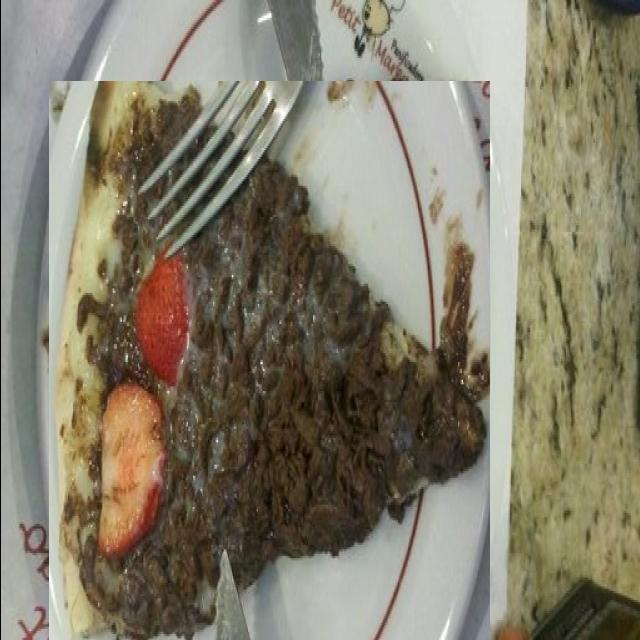pizza: (48, 81, 489, 640)
